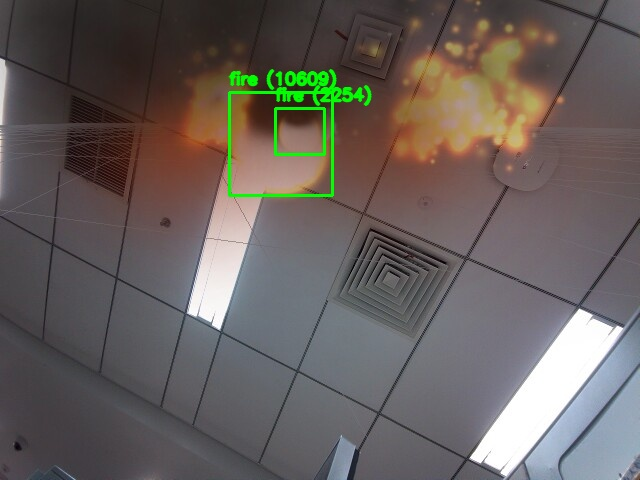fire: (229, 92, 332, 195), (275, 108, 324, 154)
